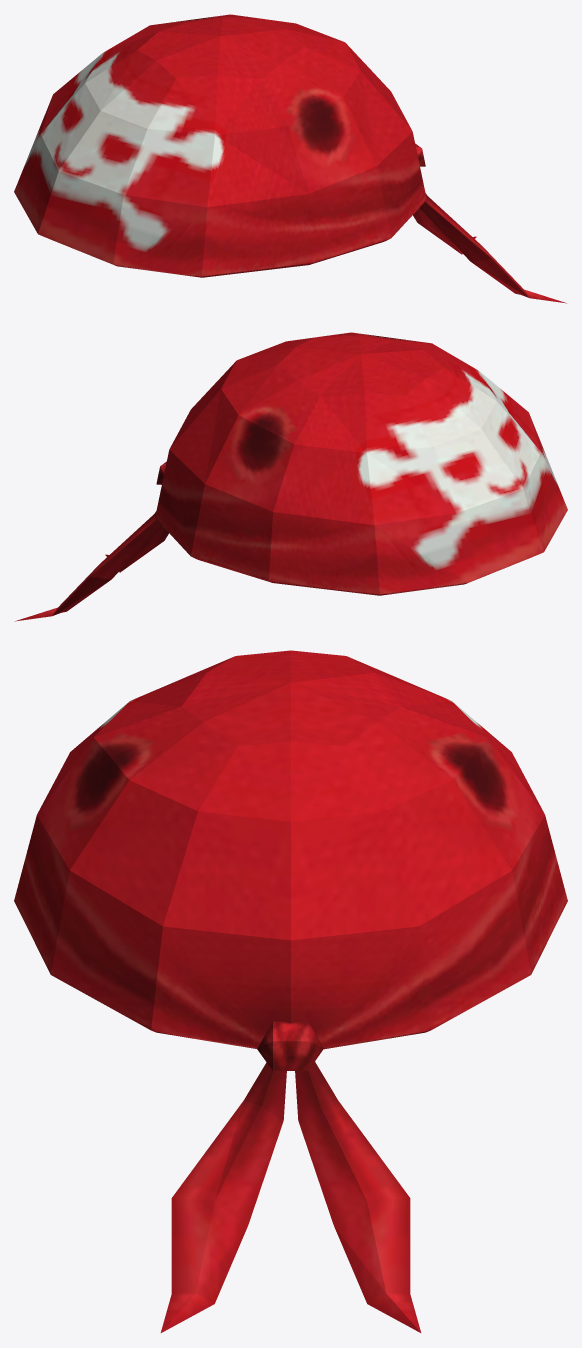
File: Panda_pirateBandana.obj
The picture shows the model from 3 angles, top to bottom: view 1: azimuth 30°, elevation 25°; view 2: azimuth 150°, elevation 25°; view 3: azimuth 270°, elevation 25°; orthographic projection. The views are drawn at different scales.
Visible parts, largest first — view 1: Panda_pirateBandana_tri; view 2: Panda_pirateBandana_tri; view 3: Panda_pirateBandana_tri.
Boxes of the visible parts, left/top/right/bottom form: Panda_pirateBandana_tri: left=14, top=14, right=566, bottom=303; Panda_pirateBandana_tri: left=15, top=332, right=567, bottom=621; Panda_pirateBandana_tri: left=14, top=650, right=567, bottom=1332.
Size of the model in its own units: 0.5318 by 0.3227 by 0.3681.
Materials: 1 (1 with a texture image).
